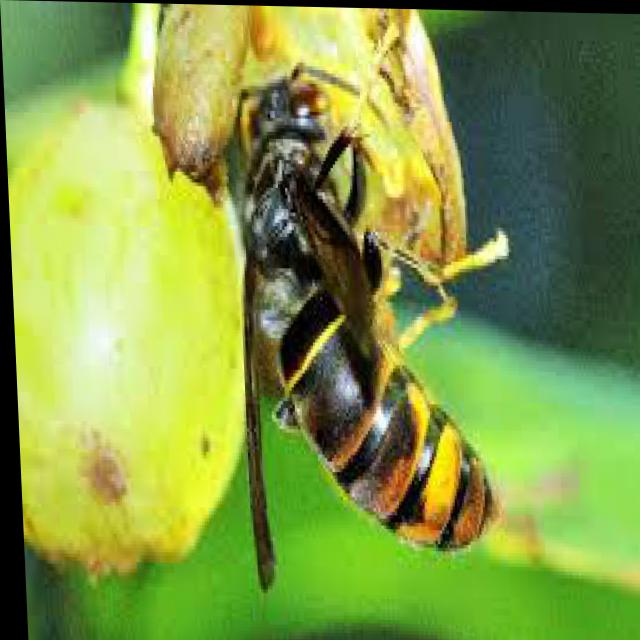Vespa Velutina: (213, 8, 530, 609)
